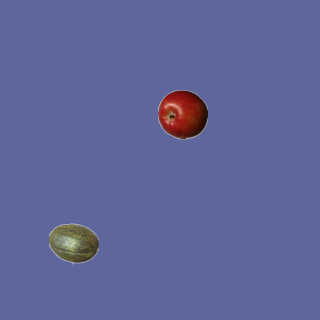Apple Braeburn: (157, 89, 207, 139)
Melon Piel de Sapo: (48, 218, 98, 268)
